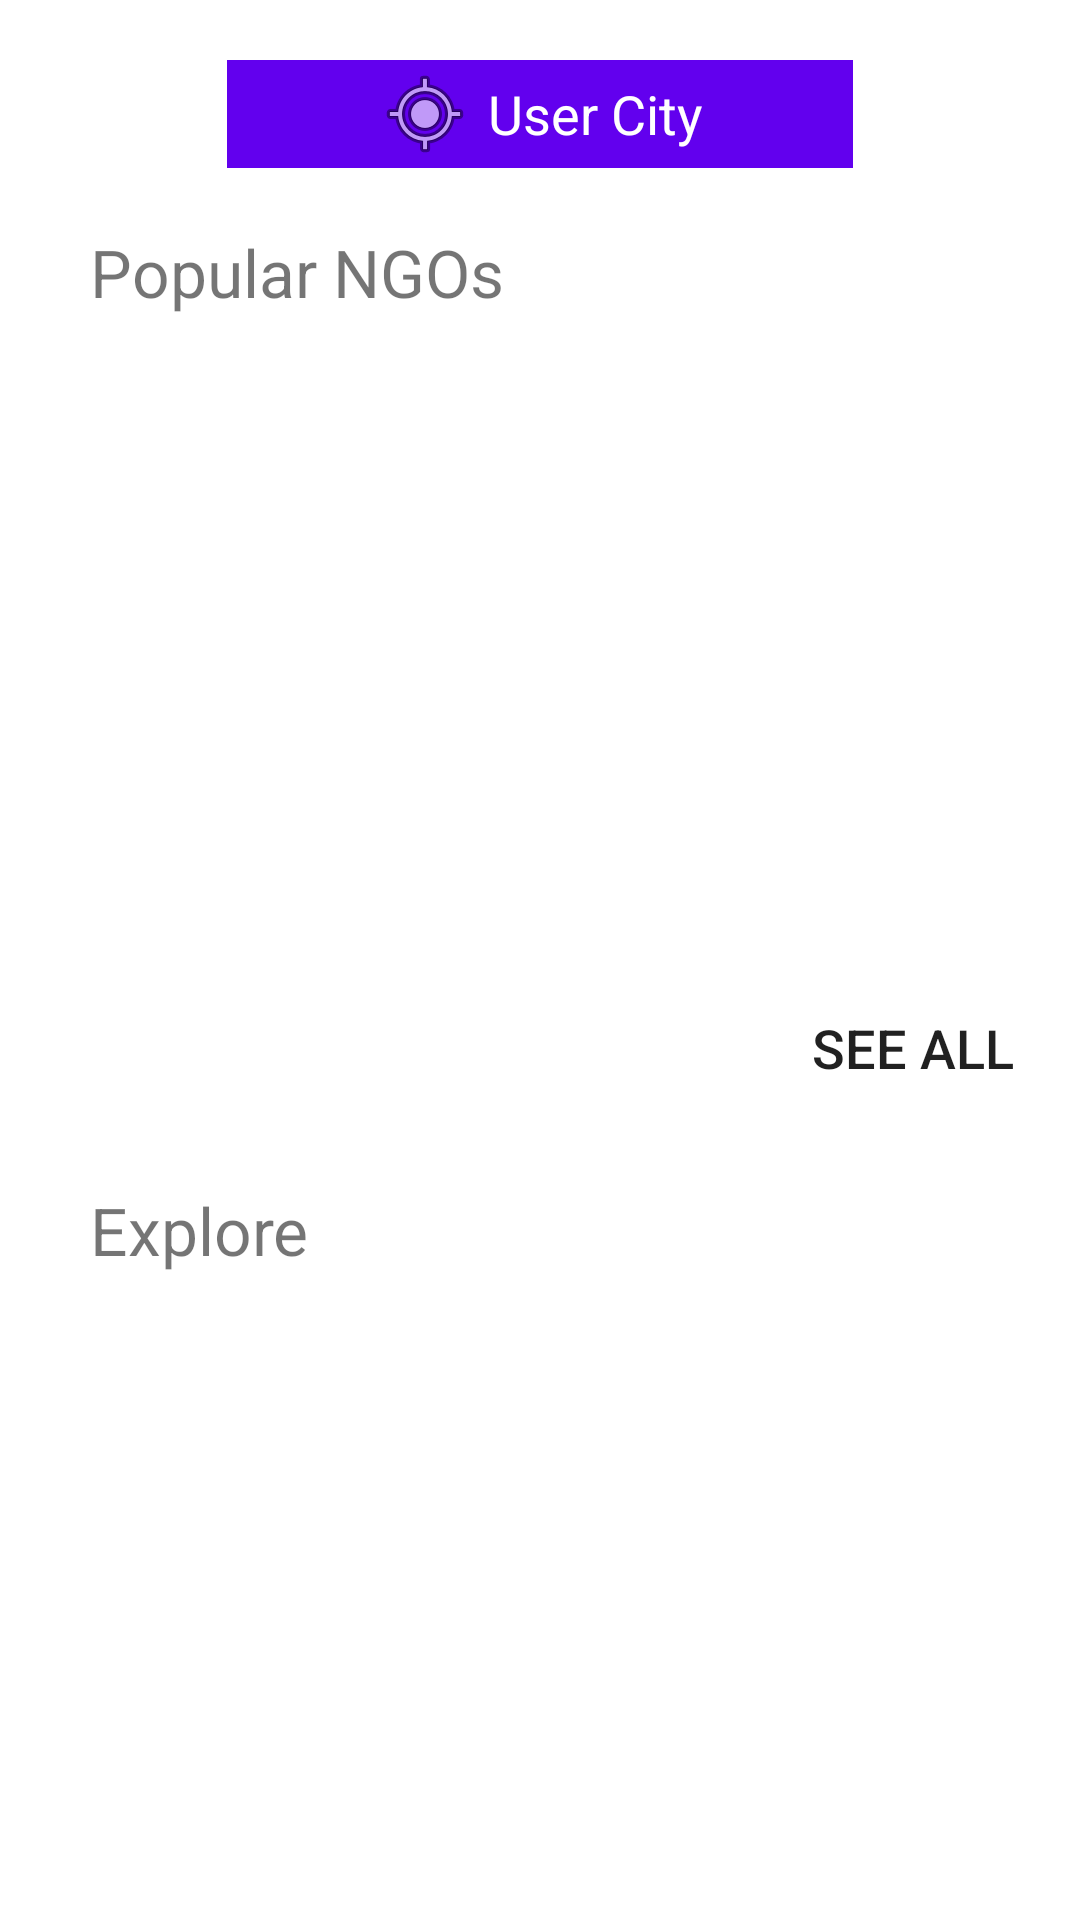

Where icons sit on this 1080px x 1920px app screen, as (x1, y1, x2, y2):
mylocation: (387, 76, 463, 152)
